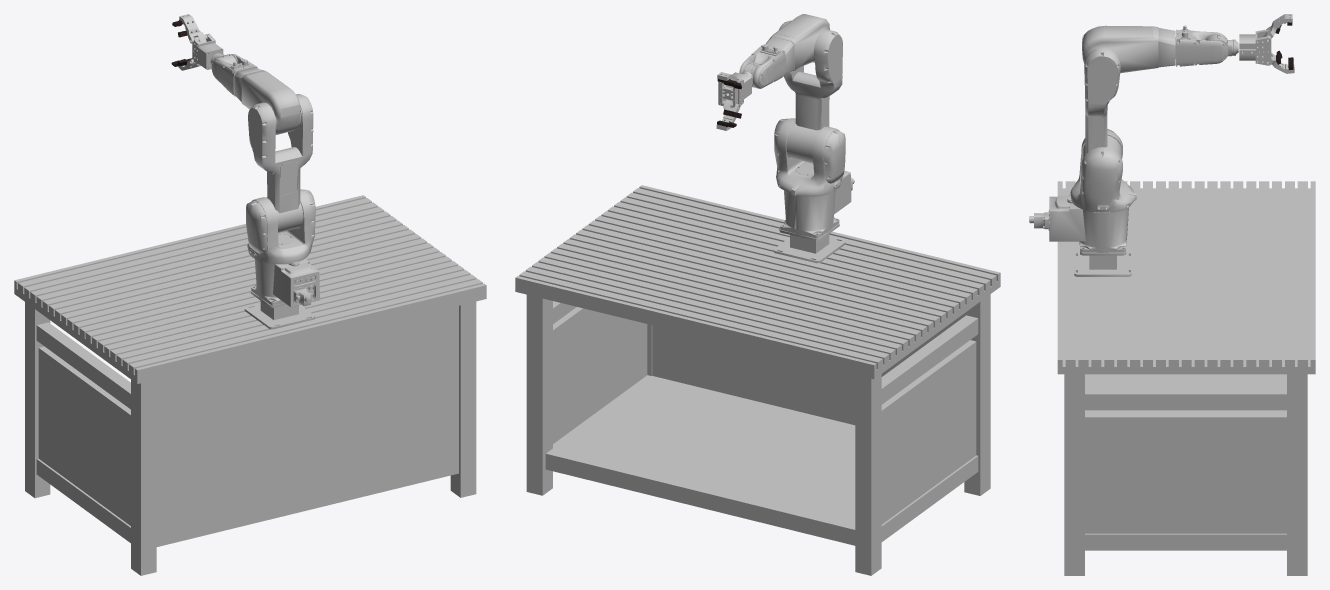
The model's file is JIXIE1.FBX.
3 renders of one model, left to right at view 1: azimuth 30°, elevation 25°; view 2: azimuth 150°, elevation 25°; view 3: azimuth 270°, elevation 25°, orthographic. The views are drawn at different scales.
Visible parts, largest first — view 1: 桌子004_4, 对象004, 对象002, 机械手臂下002_17, 对象005, 螺丝002_12, 旋转002_1; view 2: 桌子004_4, 对象002, 对象004, 机械手臂下002_17, 对象005, 螺丝002_12, 旋转002_1, 对象003; view 3: 桌子004_4, 机械手臂下002_17, 对象002, 对象004, 对象005, 旋转002_1, 螺丝002_12, 支架001_9, Line003, Line001.
Part boxes in pixels (left/top/right/bottom): 桌子004_4: left=14, top=195, right=486, bottom=575; 对象004: left=248, top=94, right=313, bottom=213; 对象002: left=246, top=189, right=315, bottom=264; 机械手臂下002_17: left=251, top=258, right=319, bottom=307; 对象005: left=241, top=70, right=300, bottom=134; 螺丝002_12: left=244, top=290, right=314, bottom=329; 旋转002_1: left=211, top=54, right=257, bottom=96; 桌子004_4: left=515, top=185, right=1000, bottom=575; 对象002: left=774, top=118, right=845, bottom=196; 对象004: left=778, top=20, right=842, bottom=130; 机械手臂下002_17: left=780, top=170, right=854, bottom=238; 对象005: left=770, top=14, right=829, bottom=70; 螺丝002_12: left=773, top=223, right=845, bottom=263; 旋转002_1: left=739, top=45, right=785, bottom=88; 对象003: left=786, top=123, right=820, bottom=163; 桌子004_4: left=1057, top=181, right=1315, bottom=575; 机械手臂下002_17: left=1029, top=194, right=1128, bottom=252; 对象002: left=1070, top=129, right=1136, bottom=212; 对象004: left=1084, top=48, right=1120, bottom=154; 对象005: left=1082, top=25, right=1158, bottom=73; 旋转002_1: left=1175, top=29, right=1228, bottom=66; 螺丝002_12: left=1074, top=246, right=1131, bottom=276; 支架001_9: left=1158, top=28, right=1175, bottom=67; Line003: left=1255, top=29, right=1271, bottom=65; Line001: left=1239, top=34, right=1255, bottom=60.
Bounding box in the file's own units: 1128 × 1371 × 765.
